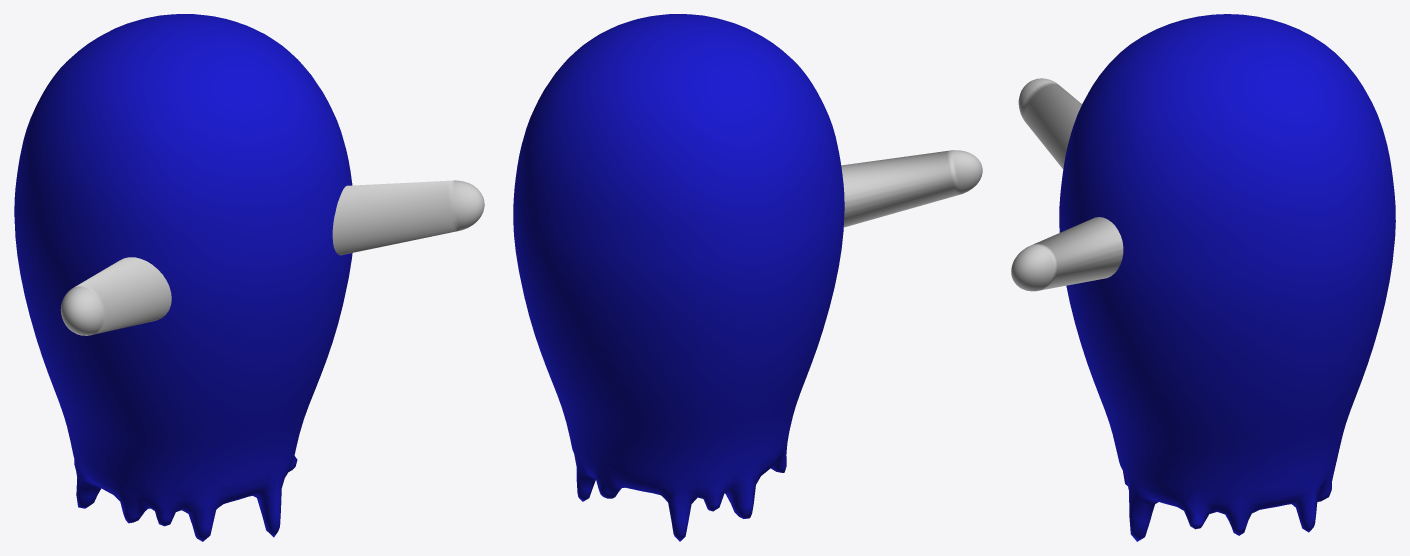
The model's file is afterThrow_000025.obj.
3 renders of one model, left to right at view 1: azimuth 30°, elevation 25°; view 2: azimuth 150°, elevation 25°; view 3: azimuth 270°, elevation 25°, orthographic. The views are drawn at different scales.
Visible parts, largest first — view 1: Cube, Sphere, Sphere.001; view 2: Cube, Sphere.001; view 3: Cube, Sphere, Sphere.001.
Boxes of the visible parts, left/top/right/bottom form: Cube: left=14, top=14, right=352, bottom=541; Sphere: left=332, top=180, right=484, bottom=255; Sphere.001: left=60, top=257, right=171, bottom=335; Cube: left=513, top=14, right=844, bottom=541; Sphere.001: left=841, top=150, right=982, bottom=227; Cube: left=1059, top=14, right=1395, bottom=541; Sphere: left=1011, top=217, right=1123, bottom=291; Sphere.001: left=1018, top=78, right=1081, bottom=168.
Size of the model in its own units: 0.4096 by 0.4582 by 0.3267.
